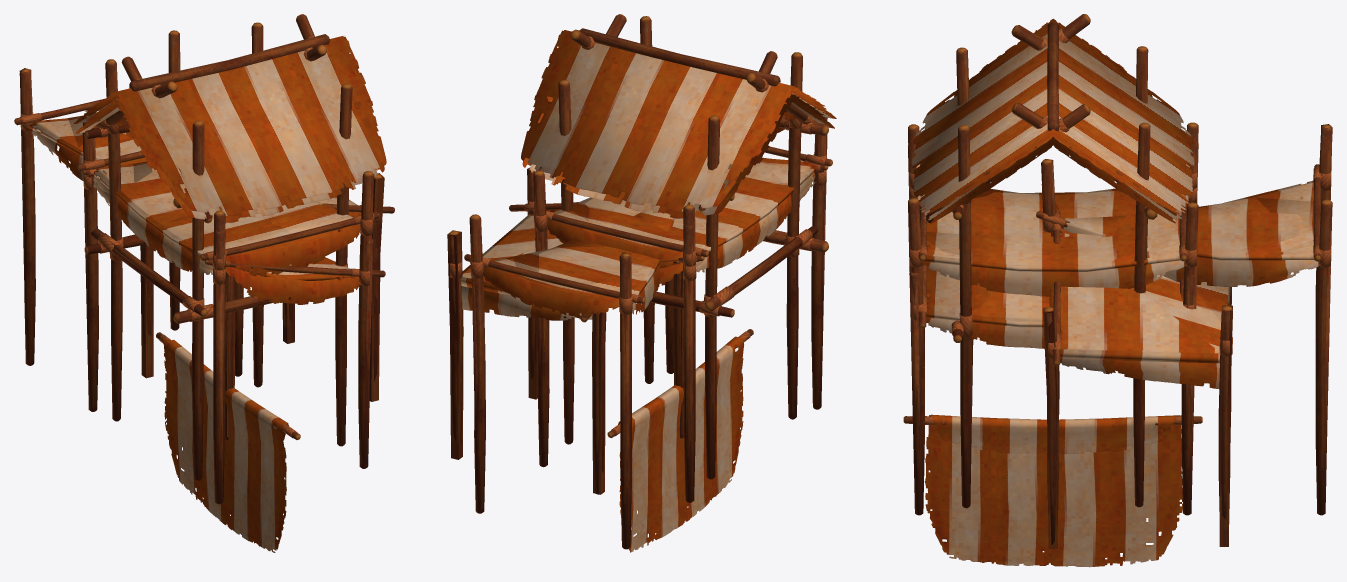
File: chCanopy.fbx
The picture shows the model from 3 angles, left to right: view 1: azimuth 30°, elevation 25°; view 2: azimuth 150°, elevation 25°; view 3: azimuth 270°, elevation 25°; orthographic projection. The views are drawn at different scales.
Visible parts, largest first — view 1: CTowPHY, CanopyTower, CanopySquare, CanopyWall, CanopySquareSlant, CanopyTri, CCornPHY, CSlantPHY, CSqrPHY, CanopyCorner, CTriPHY; view 2: CTowPHY, CanopyTower, CanopySquare, CanopyTri, CanopyWall, CanopyCorner, CCornPHY, CanopySquareSlant, CTriPHY, CSlantPHY, CSqrPHY; view 3: CanopyWall, CTowPHY, CanopySquare, CanopyCorner, CanopyTri, CanopyTower, CCornPHY, CanopySquareSlant, CSlantPHY, CTriPHY, CSqrPHY.
Part boxes in pixels (x1,y1,x2,y2): CTowPHY: [74, 36, 386, 319]; CanopyTower: [84, 14, 352, 480]; CanopySquare: [77, 115, 379, 504]; CanopyWall: [156, 332, 300, 552]; CanopySquareSlant: [82, 133, 385, 452]; CanopyTri: [14, 30, 231, 440]; CCornPHY: [140, 173, 384, 437]; CSlantPHY: [82, 133, 372, 501]; CSqrPHY: [94, 161, 373, 464]; CanopyCorner: [141, 174, 394, 419]; CTriPHY: [19, 68, 233, 439]; CTowPHY: [521, 16, 836, 308]; CanopyTower: [538, 14, 828, 479]; CanopySquare: [528, 110, 832, 502]; CanopyTri: [464, 209, 682, 549]; CanopyWall: [607, 329, 753, 552]; CanopyCorner: [449, 170, 683, 494]; CCornPHY: [447, 167, 683, 494]; CanopySquareSlant: [535, 134, 828, 450]; CTriPHY: [470, 225, 684, 478]; CSlantPHY: [659, 142, 827, 498]; CSqrPHY: [534, 118, 827, 449]; CanopyWall: [903, 414, 1202, 567]; CTowPHY: [911, 18, 1194, 332]; CanopySquare: [908, 122, 1198, 515]; CanopyCorner: [1036, 184, 1232, 548]; CanopyTri: [1041, 127, 1332, 515]; CanopyTower: [925, 14, 1176, 508]; CCornPHY: [1042, 184, 1232, 548]; CanopySquareSlant: [908, 145, 1198, 460]; CSlantPHY: [908, 143, 1198, 507]; CTriPHY: [1042, 124, 1332, 463]; CSqrPHY: [908, 131, 1198, 499].
Size of the model in its own units: 7 by 5.71 by 9.06.
